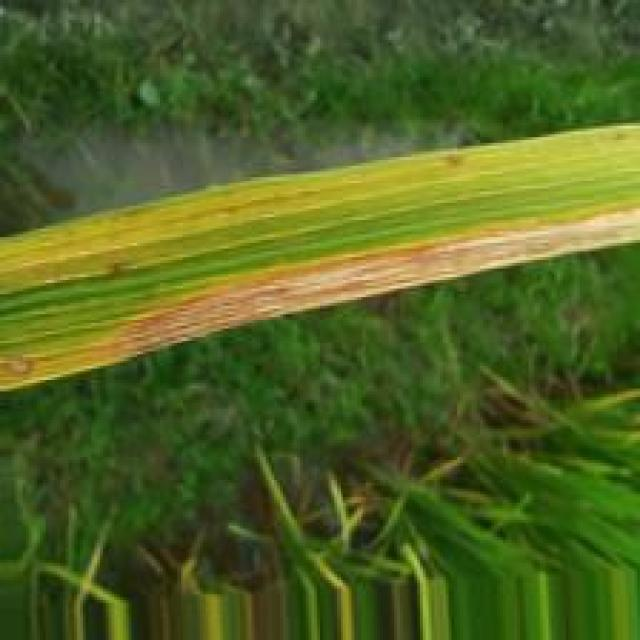Bacterial_Leaf_Blight: (0, 193, 640, 393), (0, 135, 528, 289)
